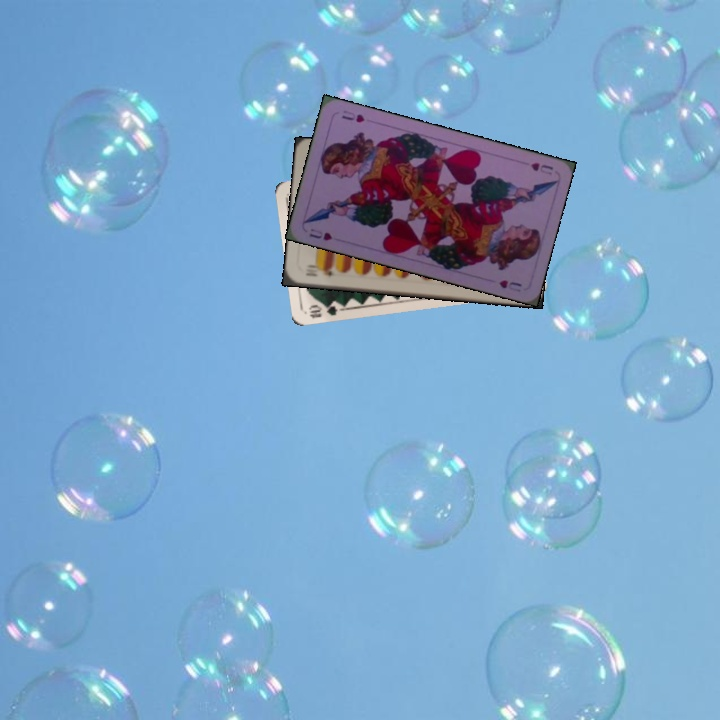E10: (302, 263, 334, 279)
G10: (305, 298, 344, 320)
HU: (305, 224, 334, 243), (527, 158, 556, 177)
